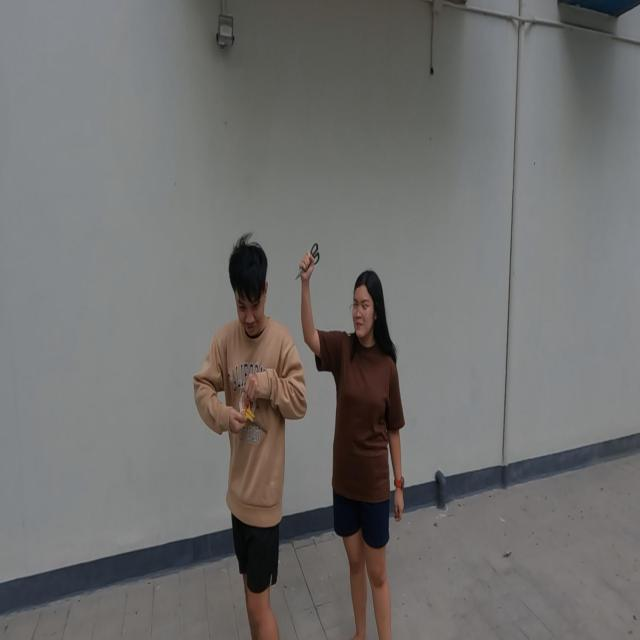scissor: (240, 399, 268, 435), (295, 242, 320, 280)
